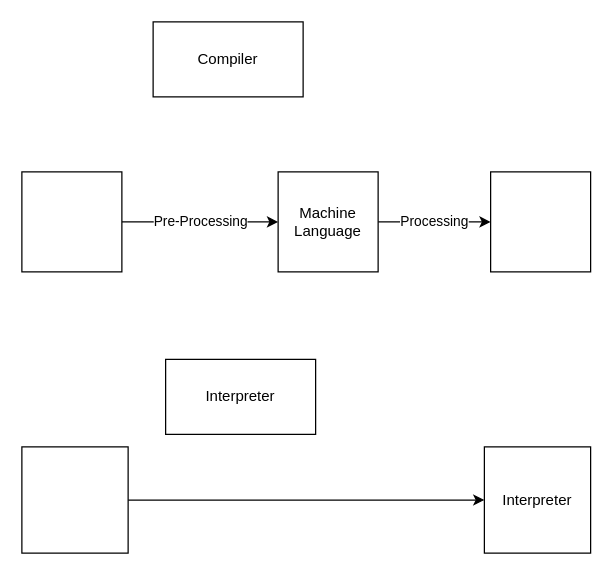
Some shapes in this 613 by 575 pixel diagram are drawn without their labels. The centre of each missing label's shape, as x and y in pixels:
"Machine" goes at point 540,221.
"source code" goes at point 71,221.
